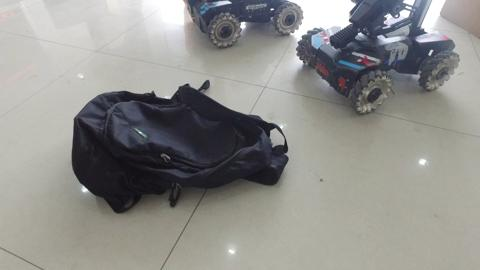bag: (77, 87, 287, 211)
chariot: (295, 1, 459, 116), (186, 1, 303, 50)
